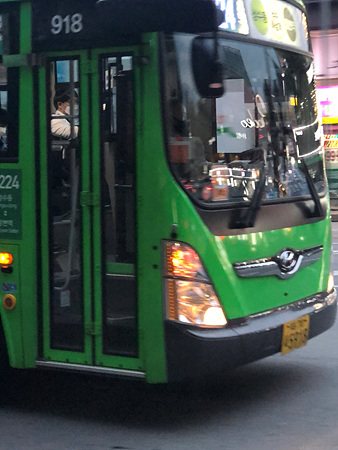entrance: (38, 39, 145, 374)
